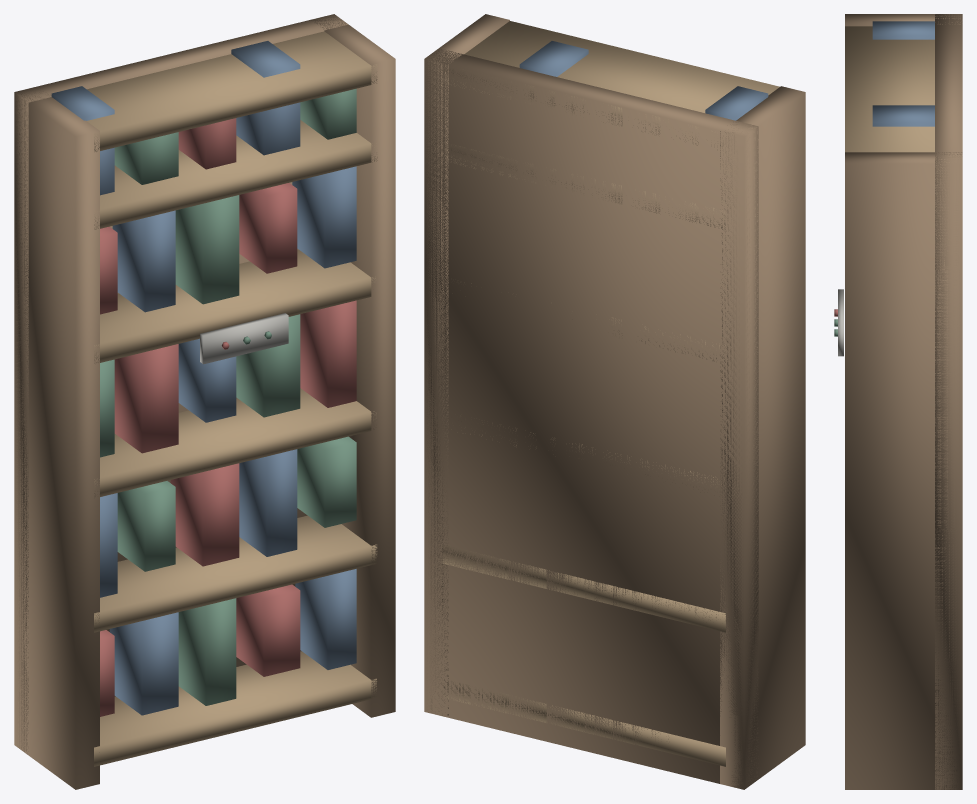
The model's file is library_stack_bay__compact.glb.
The picture shows the model from 3 angles, left to right: view 1: azimuth 30°, elevation 25°; view 2: azimuth 150°, elevation 25°; view 3: azimuth 270°, elevation 25°; orthographic projection. The views are drawn at different scales.
Visible parts, largest first — view 1: world; view 2: world; view 3: world.
Boxes of the visible parts, left/top/right/bottom form: world: left=14, top=14, right=395, bottom=789; world: left=424, top=14, right=805, bottom=789; world: left=834, top=14, right=962, bottom=789.
Bounding box in the file's own units: 0.882 × 1.73 × 0.3191.
